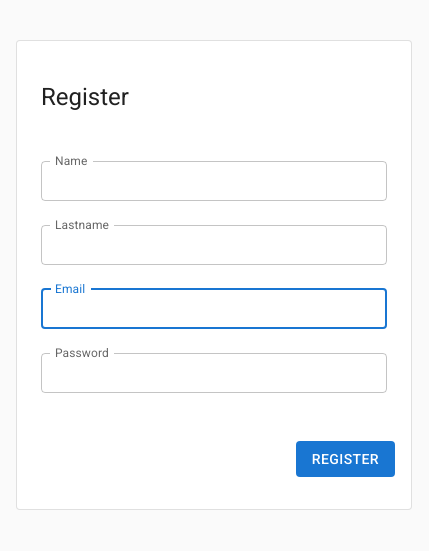
Test: RegisterForm › should display error when registration fails
This screenshot has width=429, height=551.
Type "John" into the field named "name" at (214, 181), box [41,161,387,201]
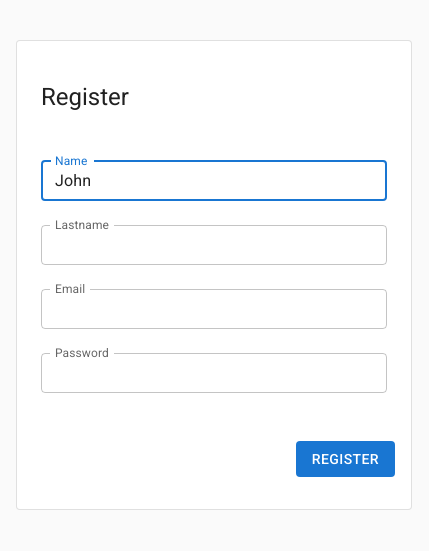
Type "Doe" into the field named "lastName" at (214, 245), box [41,225,387,265]
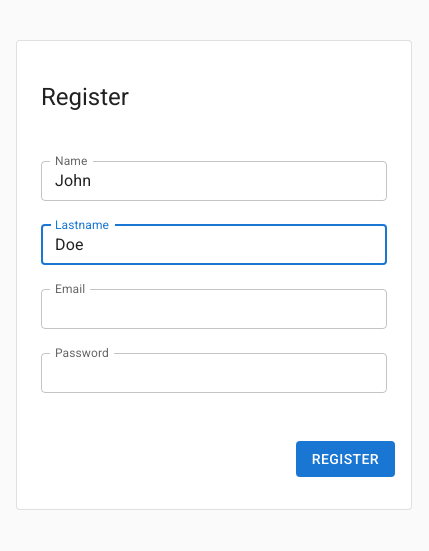
Type "test@example.com" into the field named "email" at (214, 309), box [41,289,387,329]
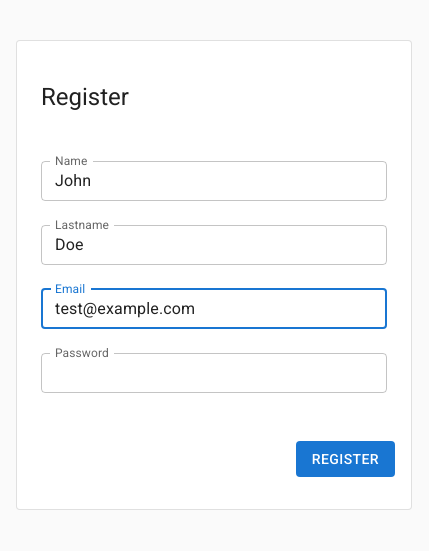
Type "password" into the password field named "password" at (214, 373), box [41,353,387,393]
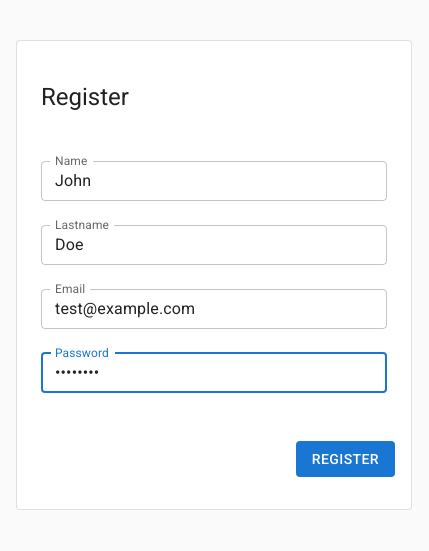
Click the submit button at (346, 460), box [296,441,395,478]
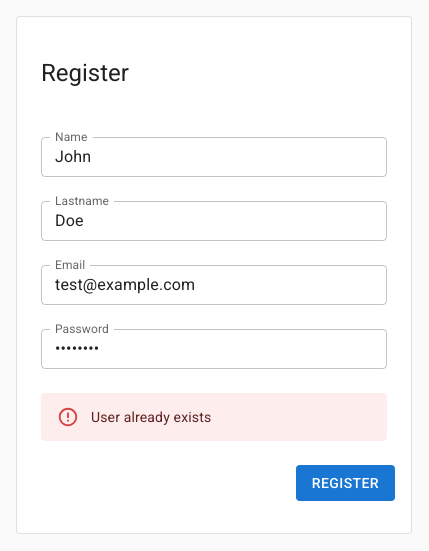
Result: the text "User already exists" is shown at [91,409,211,425]
